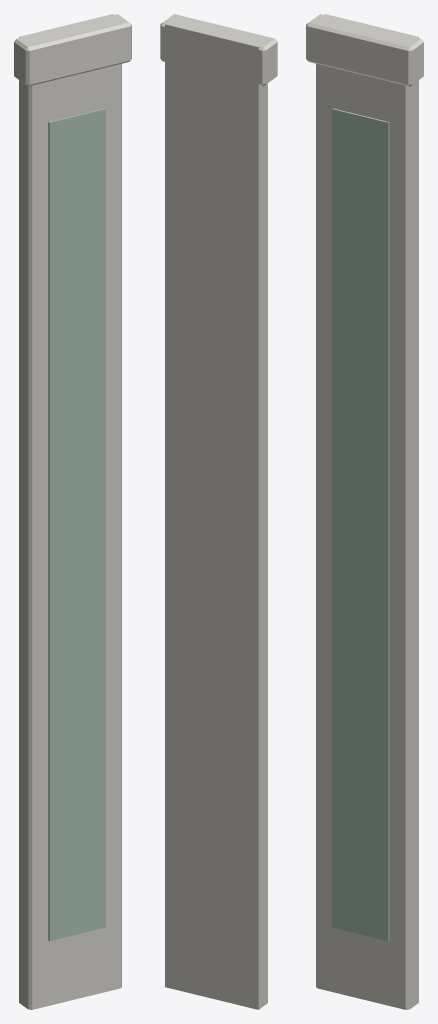
The model's file is pilaster_u_e.glb.
3 renders of one model, left to right at view 1: azimuth 30°, elevation 25°; view 2: azimuth 150°, elevation 25°; view 3: azimuth 330°, elevation 25°, orthographic.
Visible parts, largest first — view 1: pilaster_u_e_trim, pilaster_u_e_acc_e; view 2: pilaster_u_e_trim; view 3: pilaster_u_e_trim, pilaster_u_e_acc_e.
Part boxes in pixels (bbox=[...]): pilaster_u_e_trim: bbox=[14, 14, 131, 1009]; pilaster_u_e_acc_e: bbox=[48, 108, 105, 941]; pilaster_u_e_trim: bbox=[160, 14, 277, 1009]; pilaster_u_e_trim: bbox=[306, 14, 423, 1009]; pilaster_u_e_acc_e: bbox=[332, 108, 389, 941].
Bounding box in the file's own units: 0.34 × 2.95 × 0.08.
